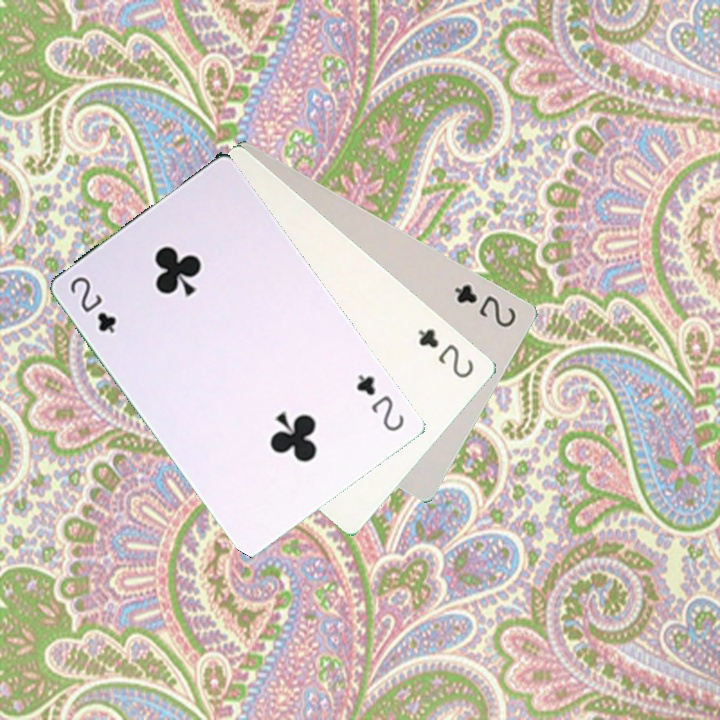2c: (414, 324, 477, 381), (352, 370, 407, 434), (450, 280, 519, 331), (66, 272, 119, 336)
